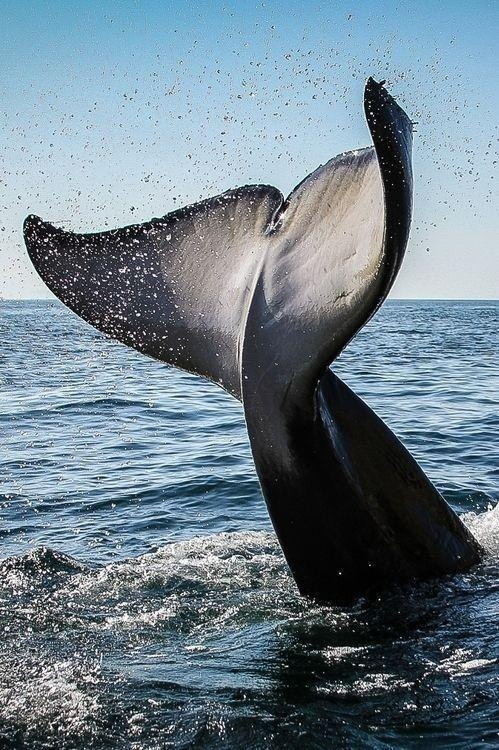fish: (10, 83, 485, 597)
